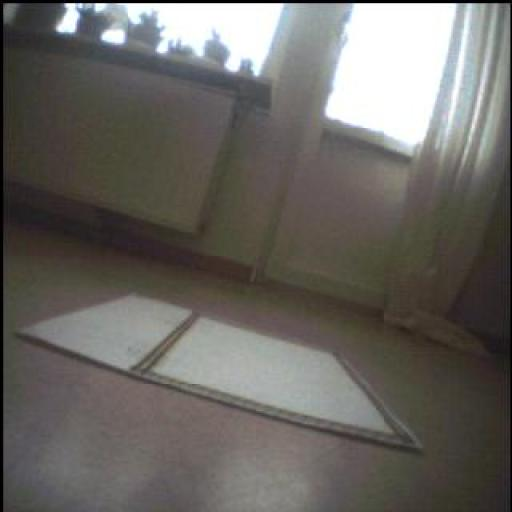Pad: (20, 296, 422, 451)
